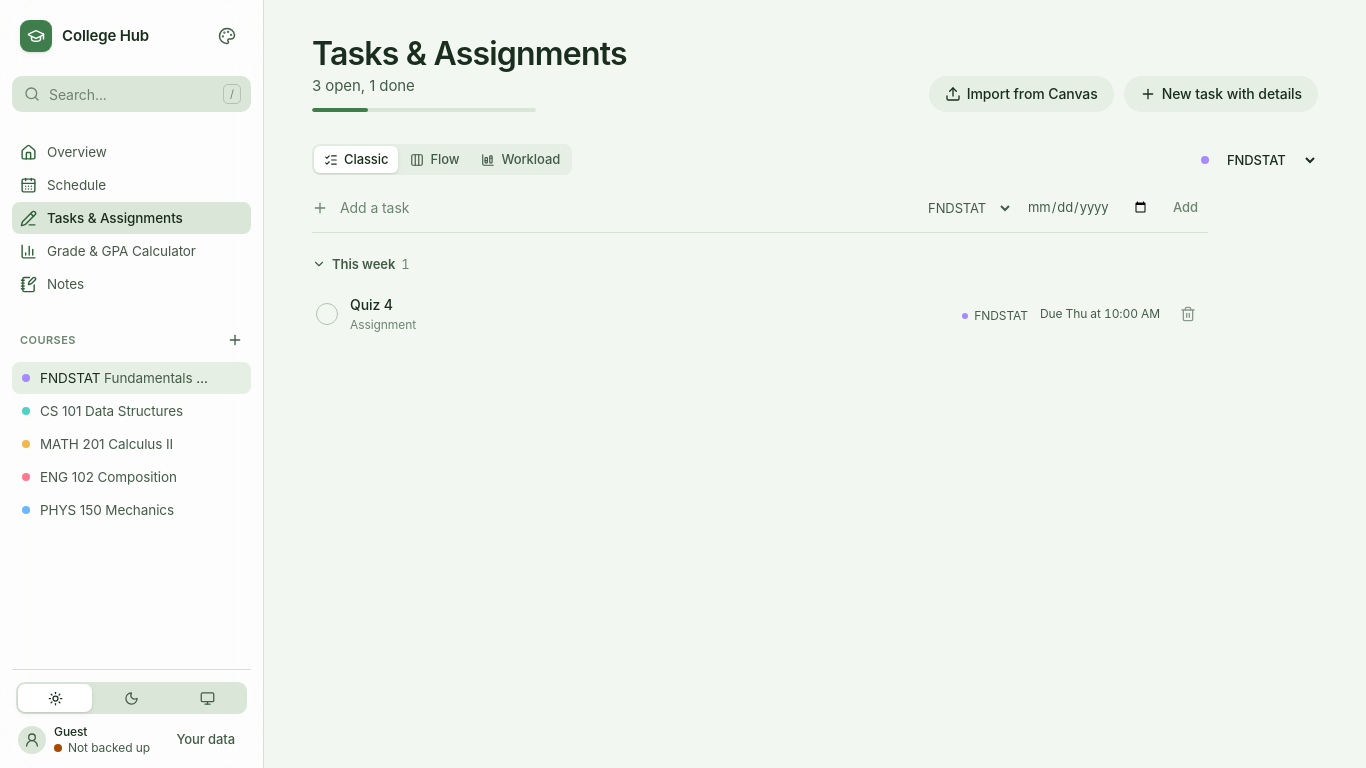
Classic › adds a task in place, to the course being shown
Type "Read chapter 6" into the field named "Task title" at (623, 208), box x1=336 y1=192 x2=910 y2=224
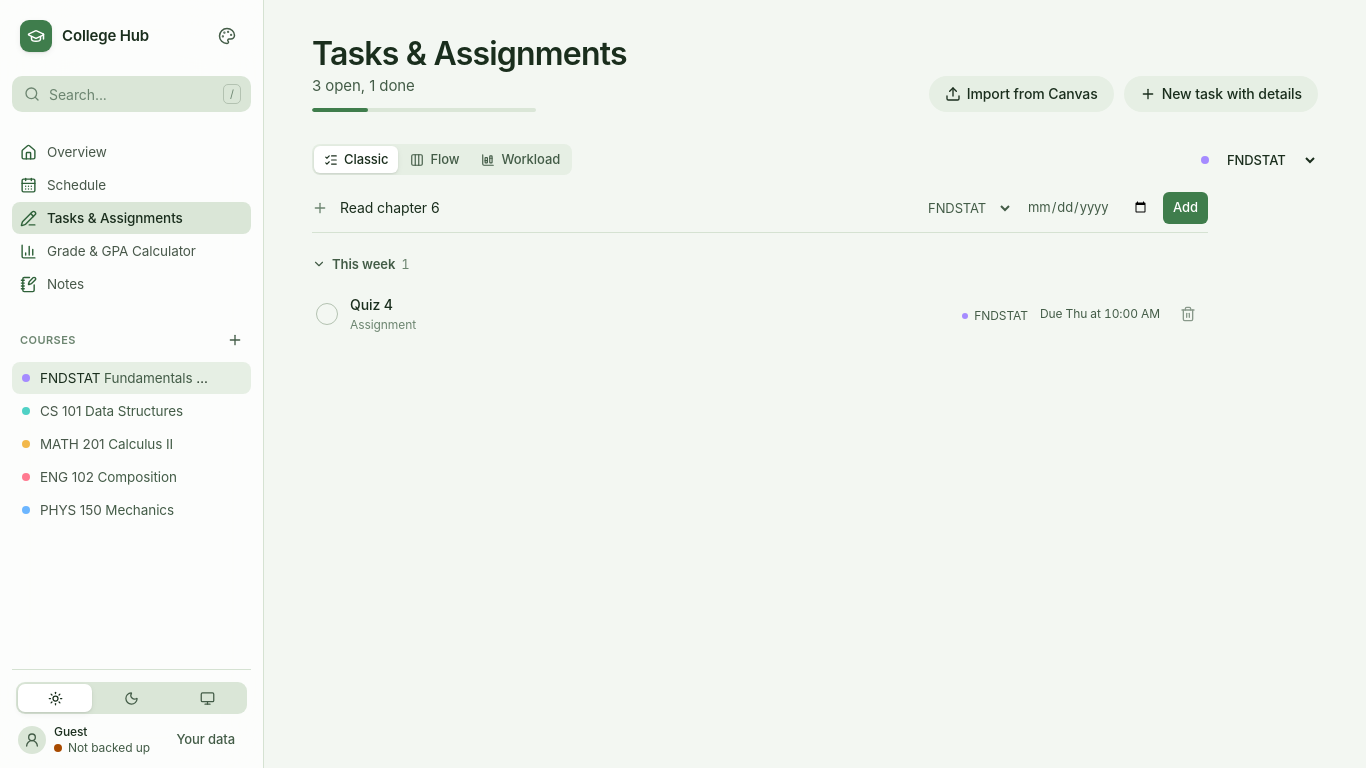
Type "2026-11-25" into the date field named "Due date" at (1088, 208), box x1=1021 y1=192 x2=1155 y2=224
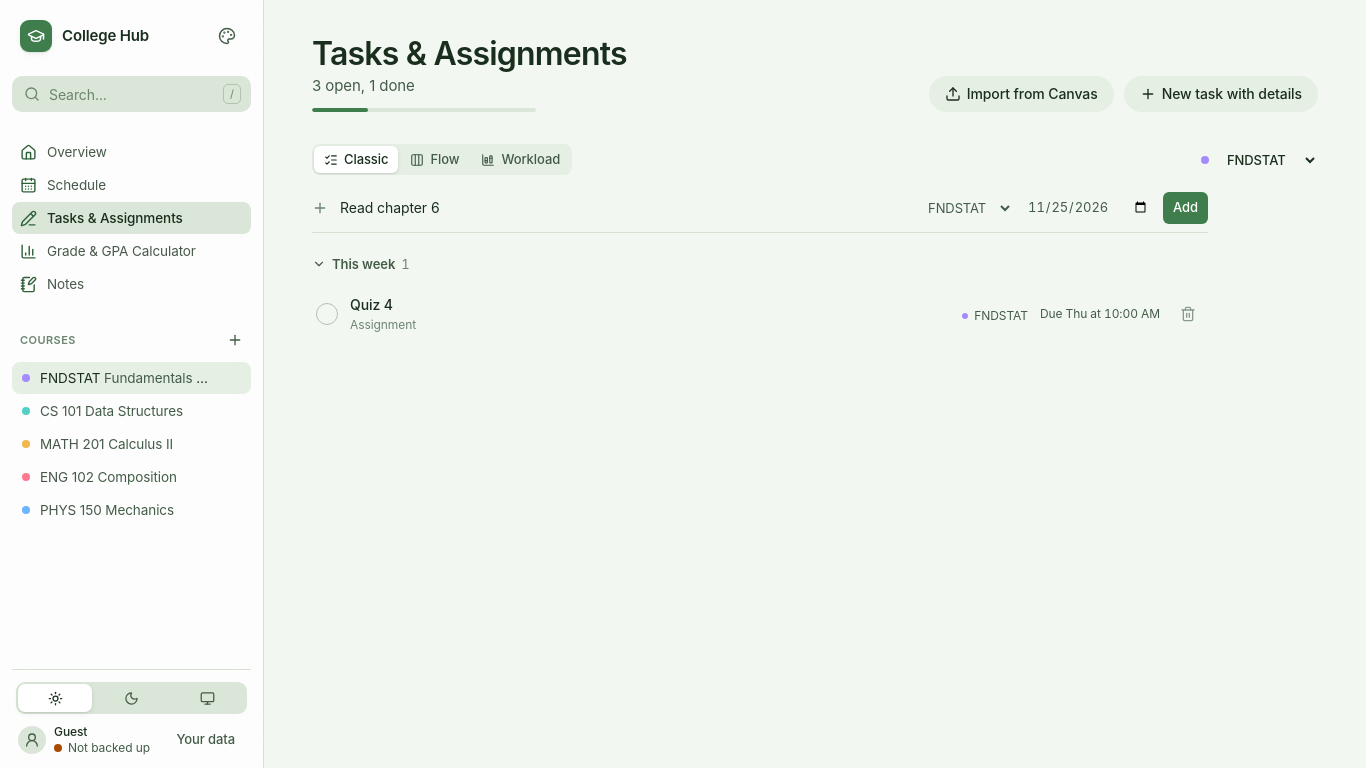
Submit the form named "Add a task", box x1=312 y1=184 x2=1208 y2=233
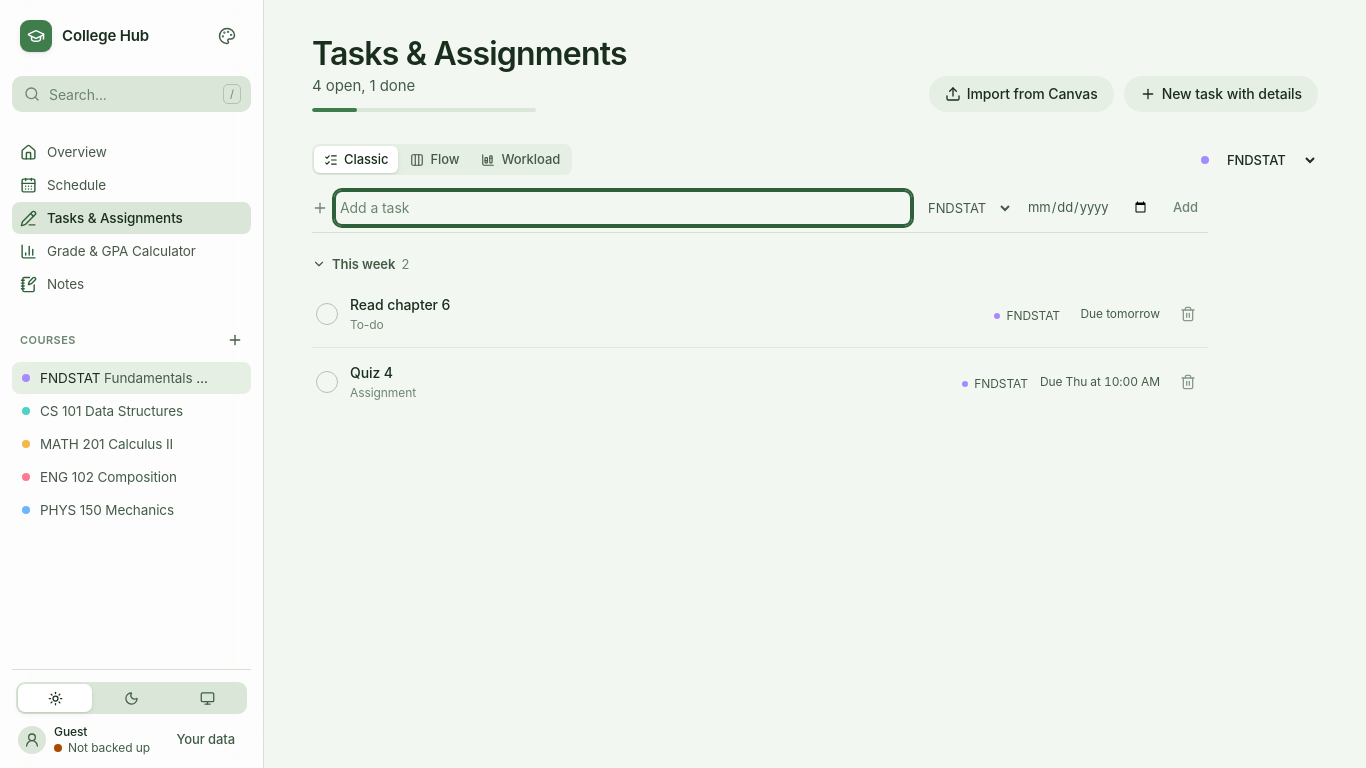
Expected: the element "This week" shows "Read chapter 6", x1=350 y1=290 x2=952 y2=337
Expected: the field named "Task title" is empty, x1=336 y1=192 x2=910 y2=224
